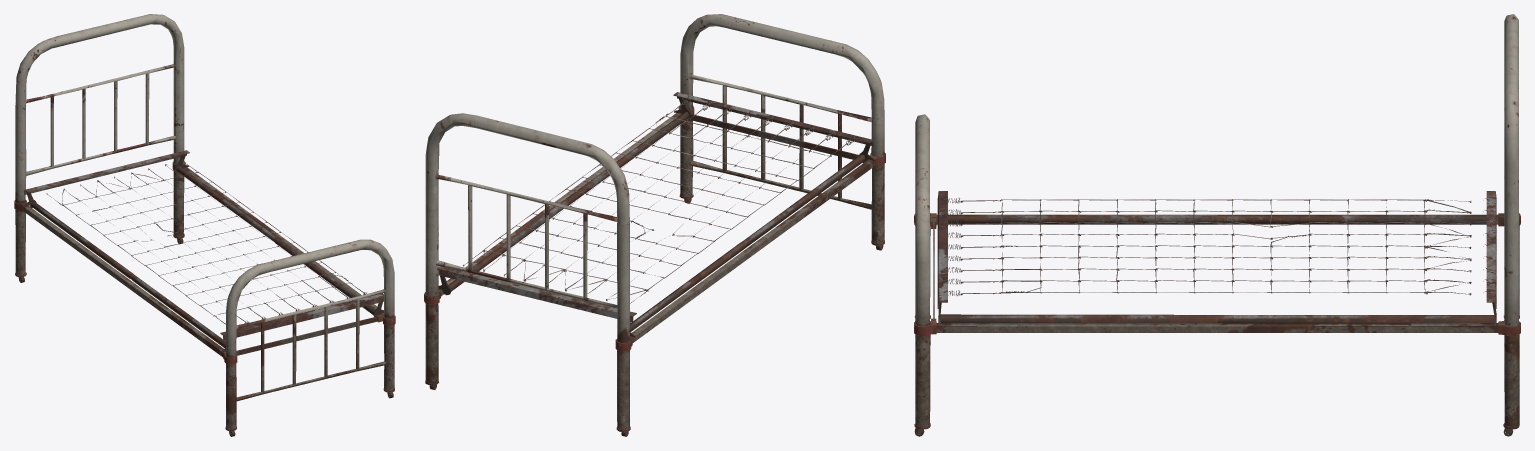
Rendered from old_bed_frame.glb.
3 views of the same model, side by side, from view 1: azimuth 30°, elevation 25°; view 2: azimuth 150°, elevation 25°; view 3: azimuth 270°, elevation 25° (orthographic). The views are drawn at different scales.
Parts seen in each view (by area): view 1: old_bed_frame; view 2: old_bed_frame; view 3: old_bed_frame.
Boxes of the visible parts, bbox=[...] form: old_bed_frame: bbox=[14, 14, 395, 436]; old_bed_frame: bbox=[424, 14, 885, 436]; old_bed_frame: bbox=[914, 14, 1520, 436].
Bounding box in the file's own units: 0.9047 × 1.2 × 2.
Materials: 1 (1 with a texture image).
